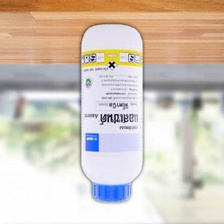insecticide: (76, 20, 147, 206)
